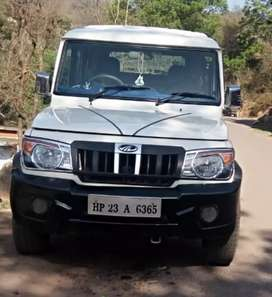HP23A6365: (86, 194, 160, 218)
